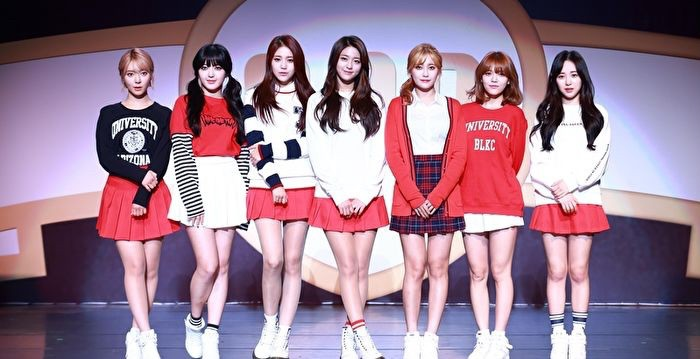people: (98, 46, 181, 359), (322, 34, 387, 359), (392, 40, 457, 356), (537, 43, 601, 359), (463, 46, 524, 359), (249, 33, 307, 359), (180, 42, 233, 359)
